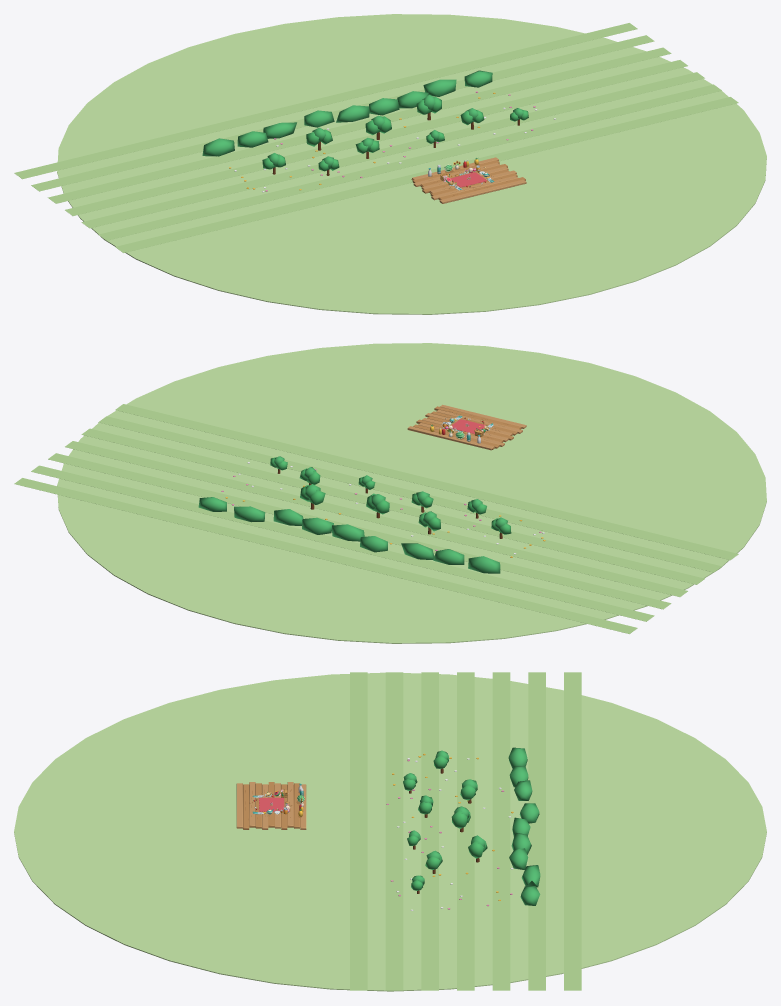
Rendered from grow.glb.
The picture shows the model from 3 angles, top to bottom: view 1: azimuth 30°, elevation 25°; view 2: azimuth 150°, elevation 25°; view 3: azimuth 270°, elevation 25°; orthographic projection. The views are drawn at different scales.
Parts seen in each view (by area): view 1: ground_flat_upright, ground_flat; view 2: ground_flat_upright, ground_flat; view 3: ground_flat_upright, ground_flat.
Boxes of the visible parts, x1,y1,x2,y2 form: ground_flat_upright: (14,14,766,314); ground_flat: (411,157,526,203); ground_flat_upright: (14,343,766,643); ground_flat: (407,404,526,450); ground_flat_upright: (14,672,766,991); ground_flat: (236,782,306,829).
Bounding box in the file's own units: 380 × 22.9 × 380.
